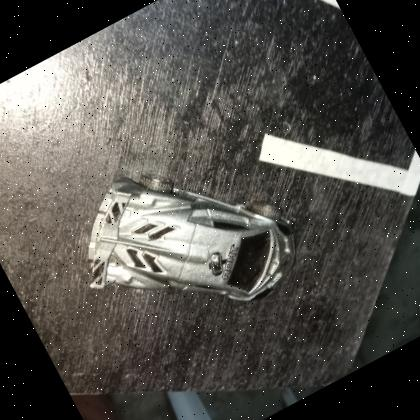Car: (87, 174, 294, 301)
